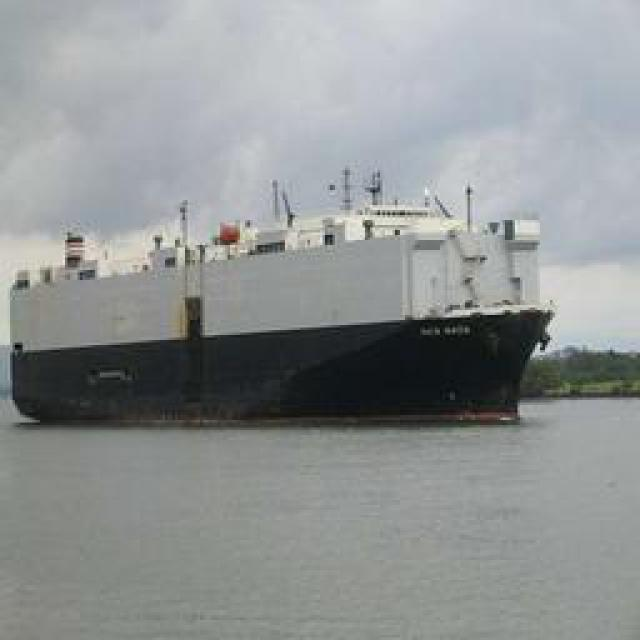Ship: (4, 176, 563, 426)
